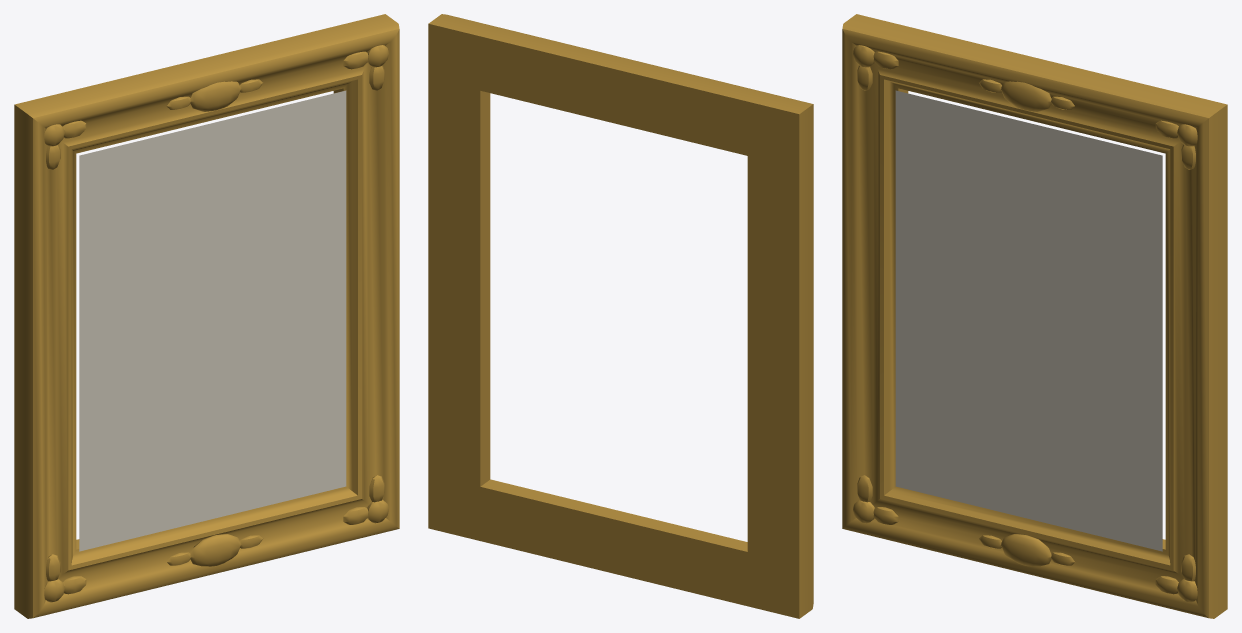
File: frame_ornate.glb
3 renders of one model, left to right at view 1: azimuth 30°, elevation 25°; view 2: azimuth 150°, elevation 25°; view 3: azimuth 330°, elevation 25°, orthographic.
Parts seen in each view (by area): view 1: canvas, frame_ornate; view 2: frame_ornate; view 3: canvas, frame_ornate.
Boxes of the visible parts, bbox=[...] form: canvas: bbox=[79, 90, 346, 551]; frame_ornate: bbox=[14, 14, 399, 618]; frame_ornate: bbox=[428, 14, 813, 618]; canvas: bbox=[895, 90, 1162, 551]; frame_ornate: bbox=[842, 14, 1227, 618].
Bounding box in the file's own units: 1 × 1.3 × 0.0895.
